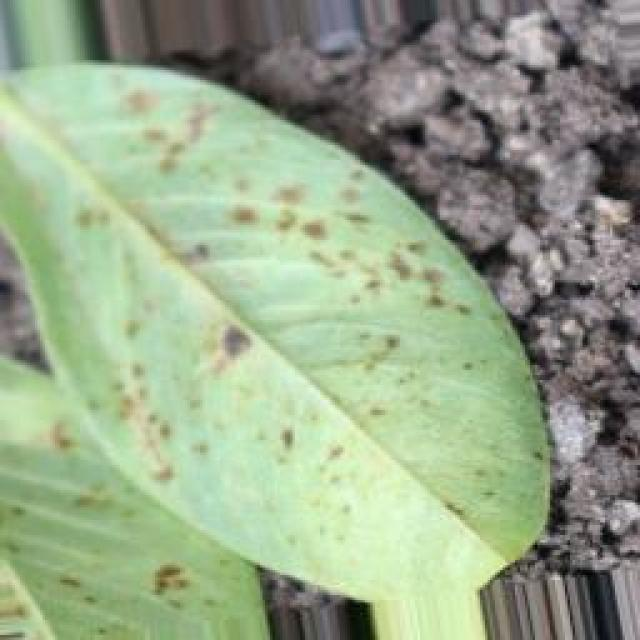Whitefly: (0, 67, 483, 640)
